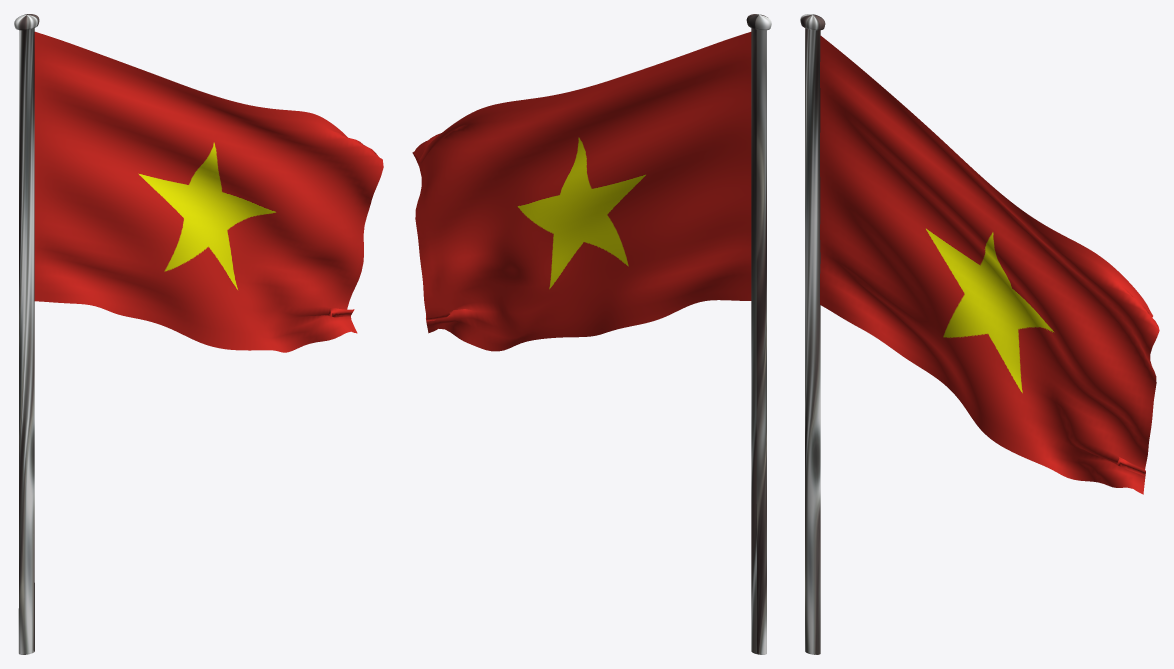
The model's file is VietnamFlag.glb.
The picture shows the model from 3 angles, left to right: view 1: azimuth 30°, elevation 25°; view 2: azimuth 150°, elevation 25°; view 3: azimuth 330°, elevation 25°; orthographic projection.
Visible parts, largest first — view 1: Plane013, Cylinder013; view 2: Plane013, Cylinder013; view 3: Plane013, Cylinder013.
Boxes of the visible parts, box(x1,y1,x2,y2) form: Plane013: box(34, 31, 383, 352); Cylinder013: box(14, 14, 39, 654); Plane013: box(412, 32, 751, 351); Cylinder013: box(746, 14, 771, 654); Plane013: box(820, 35, 1159, 494); Cylinder013: box(800, 14, 825, 654).
Bounding box in the file's own units: 22.94 × 38.48 × 1.62.
2 materials, 2 textured.
